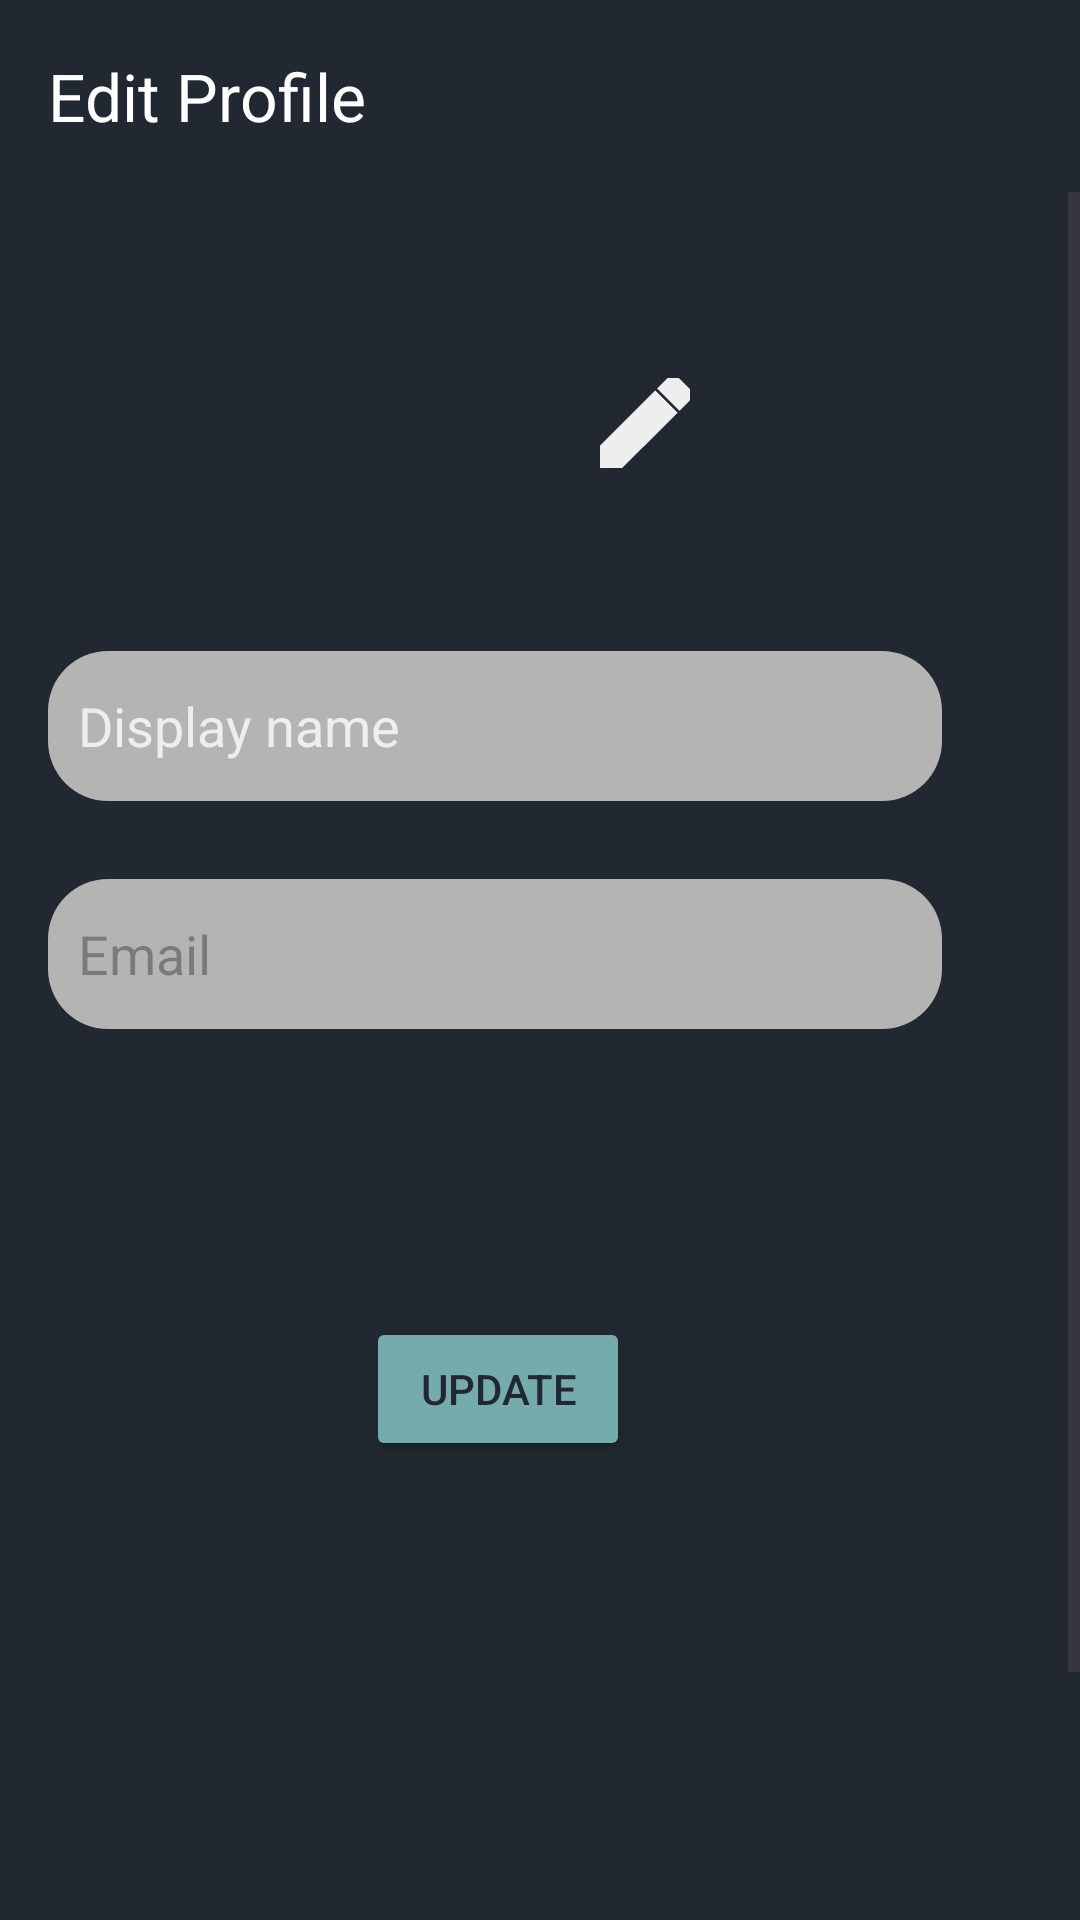

Screen size 1080 x 1920. Icon name, then its box in pixels as (x1, y1, x2, y2):
edit: (600, 378, 690, 468)
